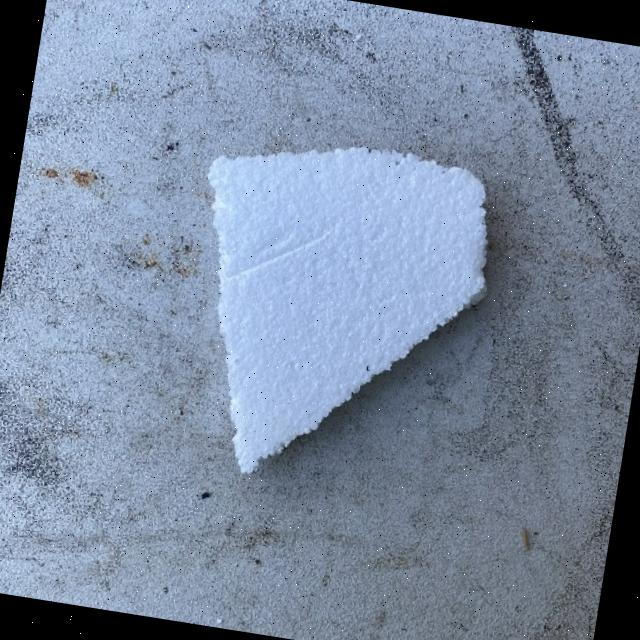styrofoam: (158, 119, 506, 508)
